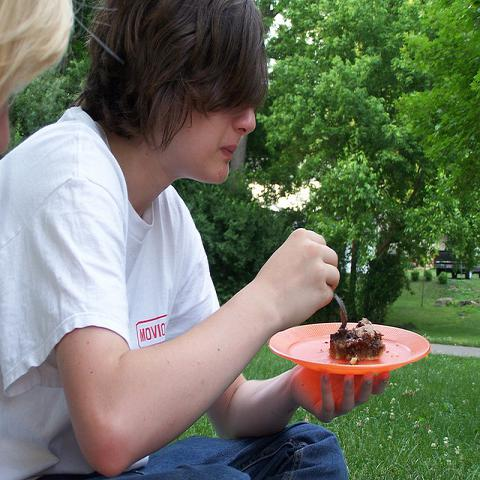truck: (434, 250, 480, 280)
